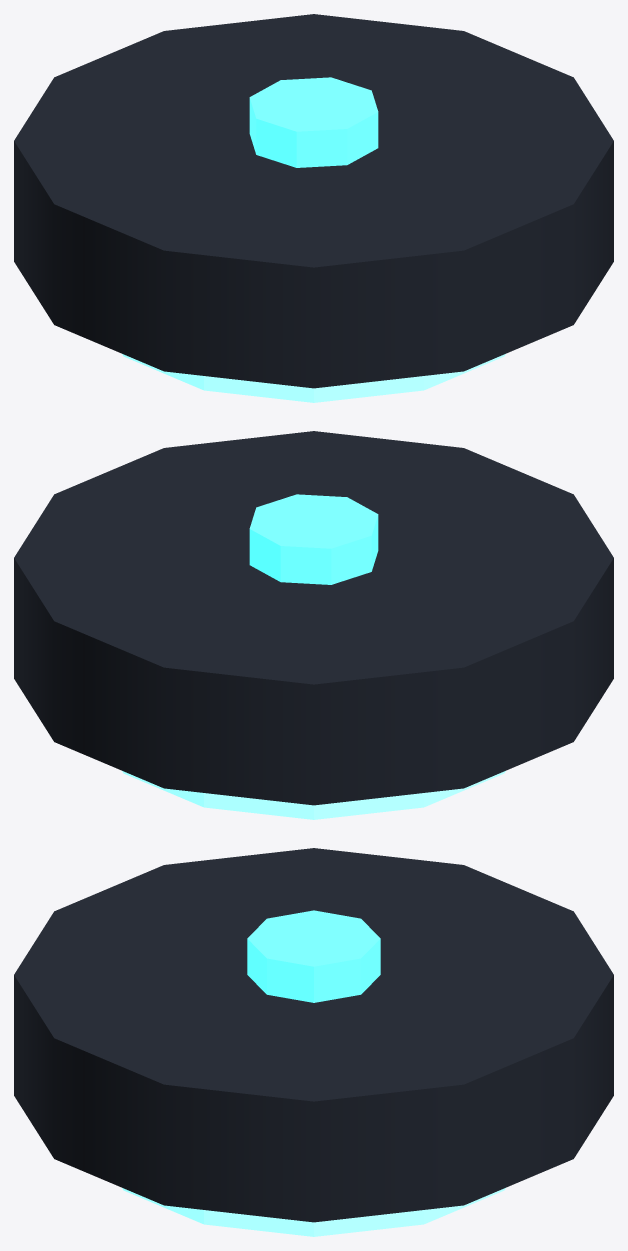
File: mod_lampara.fbx
The picture shows the model from 3 angles, top to bottom: view 1: azimuth 30°, elevation 25°; view 2: azimuth 150°, elevation 25°; view 3: azimuth 270°, elevation 25°; orthographic projection.
Visible parts, largest first — view 1: Lampara, Lampara_Conectores, Lampara_Neon; view 2: Lampara, Lampara_Conectores, Lampara_Neon; view 3: Lampara, Lampara_Conectores, Lampara_Neon.
Part boxes in pixels (box(x1,y1,x2,y2)): Lampara: box(14, 14, 613, 388); Lampara_Conectores: box(249, 77, 378, 167); Lampara_Neon: box(122, 354, 505, 402); Lampara: box(14, 431, 613, 805); Lampara_Conectores: box(249, 494, 378, 584); Lampara_Neon: box(122, 771, 505, 819); Lampara: box(14, 848, 613, 1222); Lampara_Conectores: box(247, 910, 380, 1002); Lampara_Neon: box(122, 1188, 505, 1236).
Size of the model in its own units: 0.252 by 0.0952 by 0.252.
